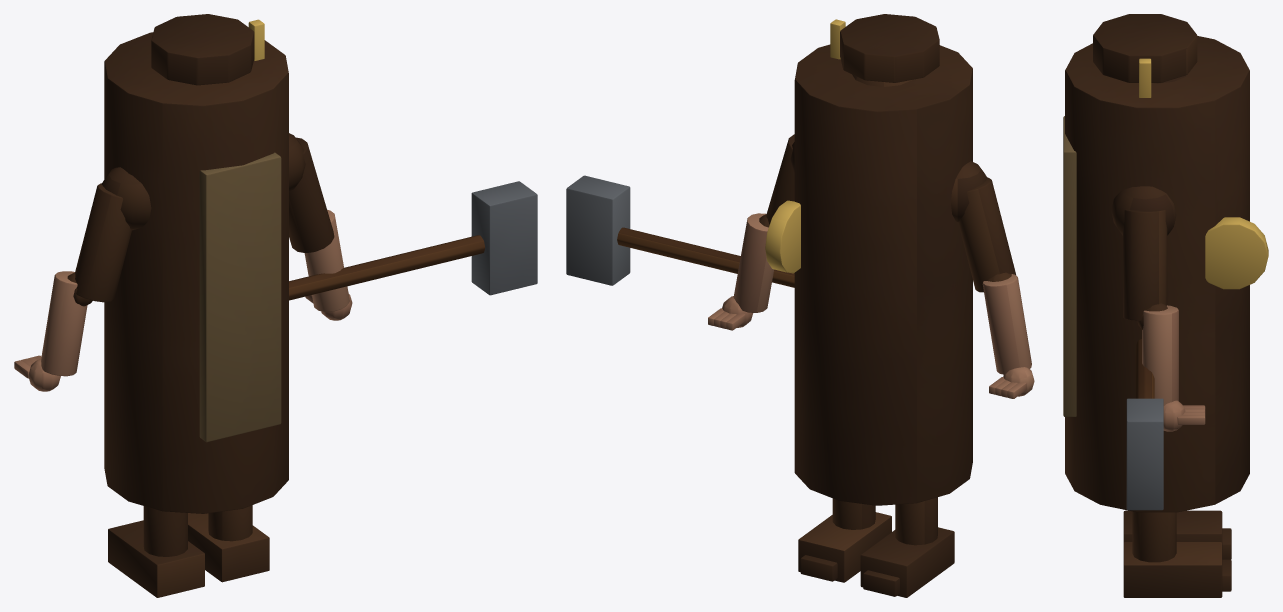
Rendered from unit_university_practitioner.fbx.
3 views of the same model, side by side, from view 1: azimuth 30°, elevation 25°; view 2: azimuth 150°, elevation 25°; view 3: azimuth 270°, elevation 25° (orthographic). The views are drawn at different scales.
Visible parts, largest first — view 1: unit_university_practitioner; view 2: unit_university_practitioner; view 3: unit_university_practitioner.
Part boxes in pixels (left/top/right/bottom): unit_university_practitioner: left=14, top=14, right=537, bottom=597; unit_university_practitioner: left=566, top=14, right=1034, bottom=597; unit_university_practitioner: left=1063, top=14, right=1268, bottom=597.
Bounding box in the file's own units: 1.8 × 1.92 × 0.665.
